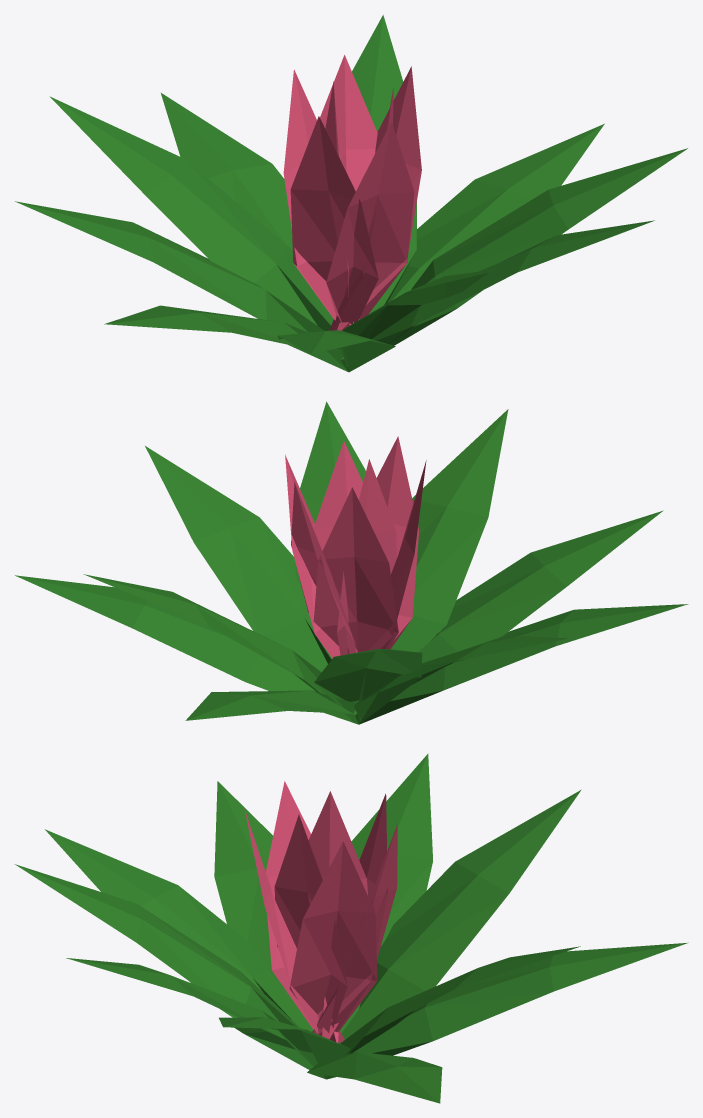
File: bromeliad.glb
The picture shows the model from 3 angles, top to bottom: view 1: azimuth 30°, elevation 25°; view 2: azimuth 150°, elevation 25°; view 3: azimuth 270°, elevation 25°; orthographic projection. The views are drawn at different scales.
Parts seen in each view (by area): view 1: leaf, flower_pink; view 2: leaf, flower_pink; view 3: leaf, flower_pink.
Part boxes in pixels (<box>): leaf: <box>15,15,687,372</box>; flower_pink: <box>283,55,421,330</box>; leaf: <box>15,401,688,724</box>; flower_pink: <box>285,436,426,658</box>; leaf: <box>14,753,688,1103</box>; flower_pink: <box>244,781,397,1043</box>.
Bounding box in the file's own units: 0.9948 × 0.4525 × 0.9798.
